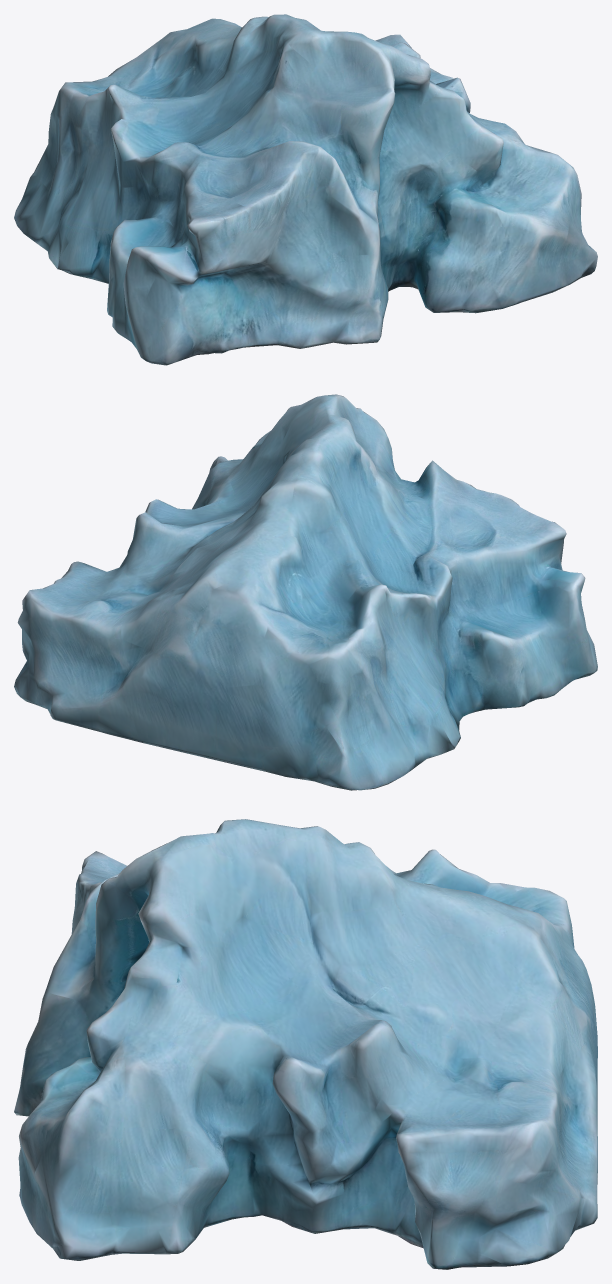
The model's file is ice_block.glb.
3 renders of one model, top to bottom at view 1: azimuth 30°, elevation 25°; view 2: azimuth 150°, elevation 25°; view 3: azimuth 270°, elevation 25°, orthographic. The views are drawn at different scales.
Visible parts, largest first — view 1: ice_block; view 2: ice_block; view 3: ice_block.
Part boxes in pixels (x1=…): ice_block: x1=14, y1=14, x2=597, y2=365; ice_block: x1=14, y1=394, x2=597, y2=790; ice_block: x1=14, y1=819, x2=597, y2=1269.
Bounding box in the file's own units: 1.99 × 1.06 × 1.79.
1 material, 1 textured.
